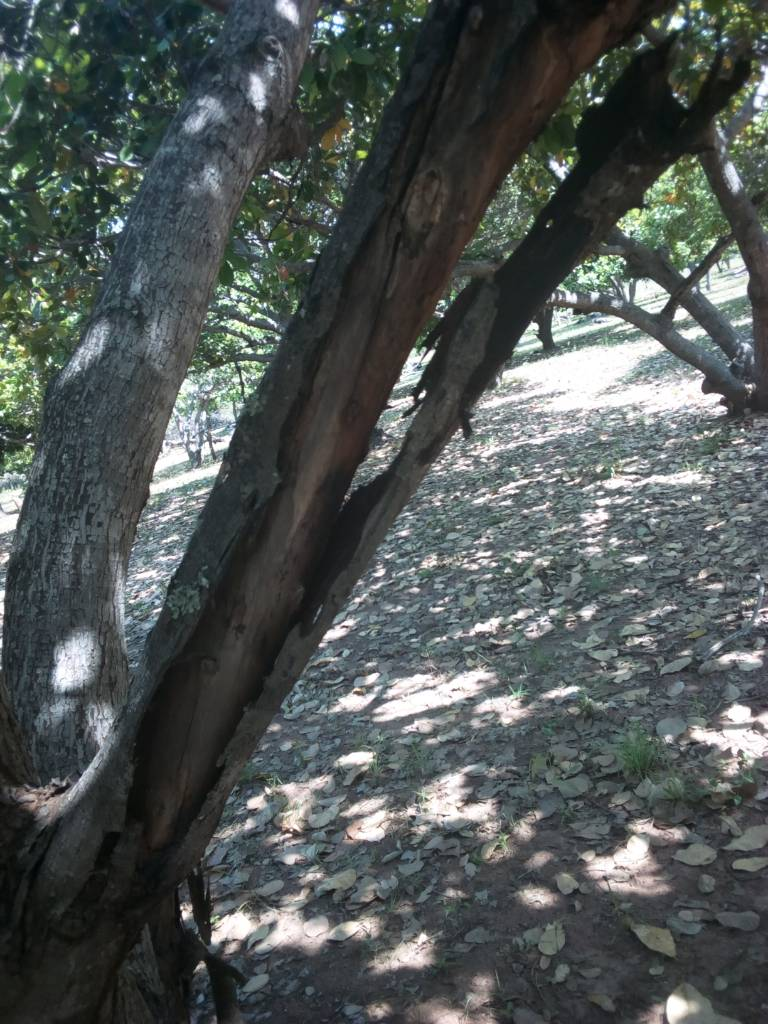Termites: (166, 432, 366, 791), (40, 810, 186, 1019)
